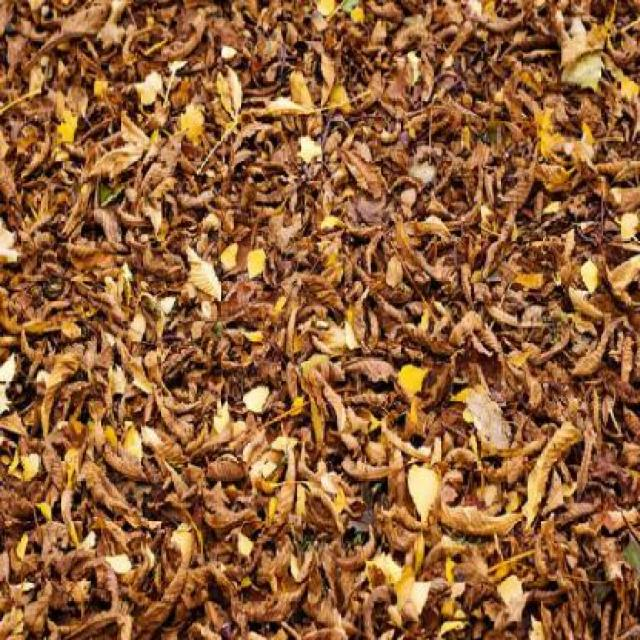organic waste: (8, 21, 596, 627)
